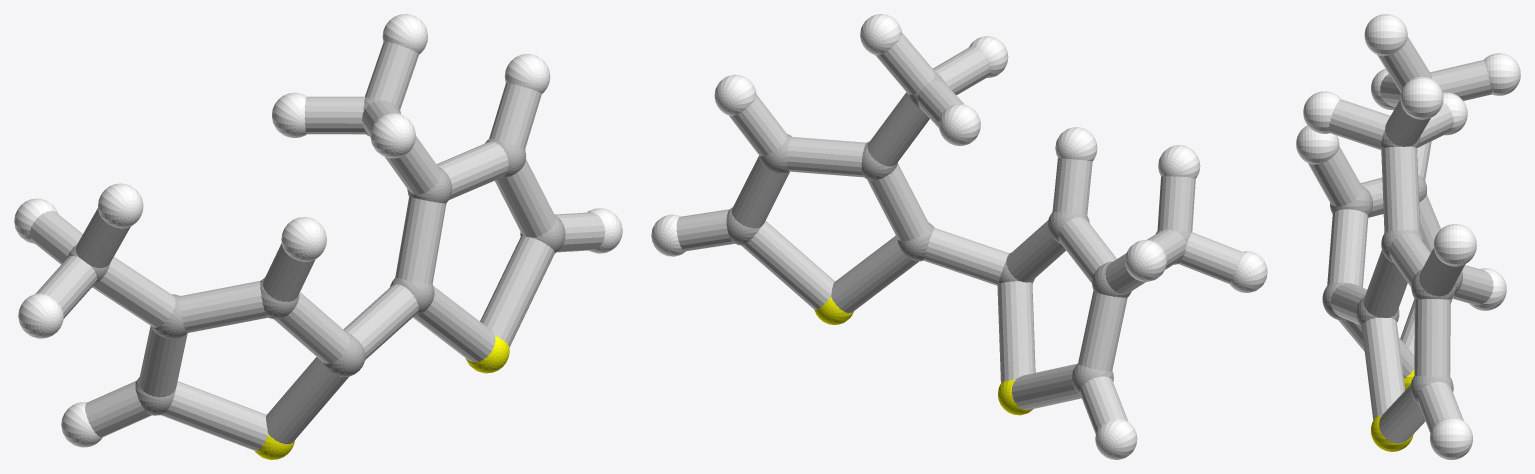
Rendered from Methylthiophene_Phi_50_Theta_160_Methylthiophene.glb.
The picture shows the model from 3 angles, left to right: view 1: azimuth 30°, elevation 25°; view 2: azimuth 150°, elevation 25°; view 3: azimuth 270°, elevation 25°; orthographic projection. The views are drawn at different scales.
Parts seen in each view (by area): view 1: grp7965, grp3621, grp1, grp7241; view 2: grp7965, grp3621, grp1, grp7241; view 3: grp7965, grp3621, grp1, grp7241.
Part boxes in pixels (x1,y1,x2,y2): grp7965: (29,41,605,450); grp3621: (14,14,622,447); grp1: (67,97,565,415); grp7241: (255,336,509,459); grp7965: (676,33,1242,434); grp3621: (651,14,1267,459); grp1: (726,72,1190,394); grp7241: (814,297,1033,415); grp7965: (1308,36,1493,443); grp3621: (1296,14,1520,459); grp1: (1322,92,1462,404); grp7241: (1371,369,1414,451).
Bounding box in the file's own units: 9.56 × 5.83 × 3.12.
